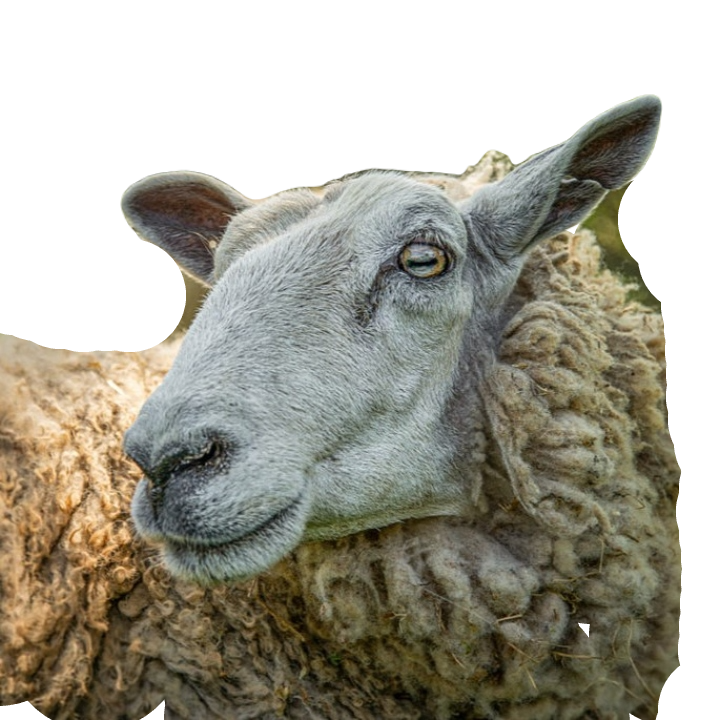Sheep: (0, 89, 690, 719)
